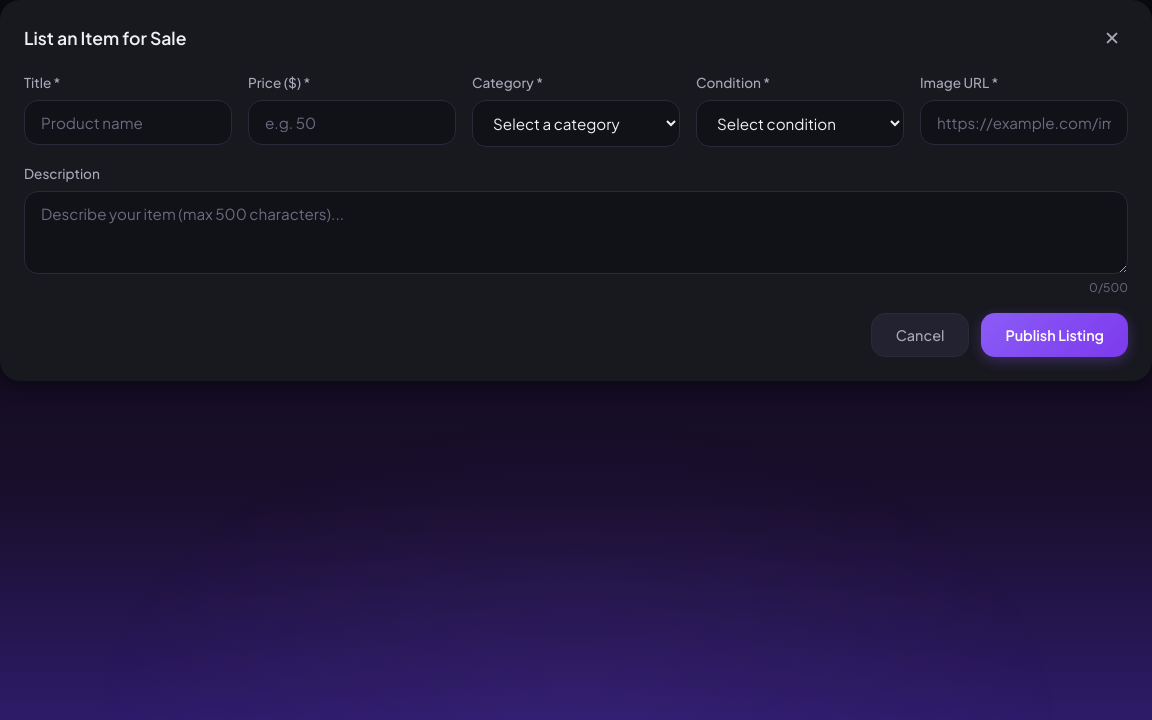
Test: CreateListingForm › shows "Price must be greater than zero" when price is 0
Type "Test Item" into the field labelled "Title *".
click(128, 122); type("Test Item")  # box [24, 100, 232, 145]
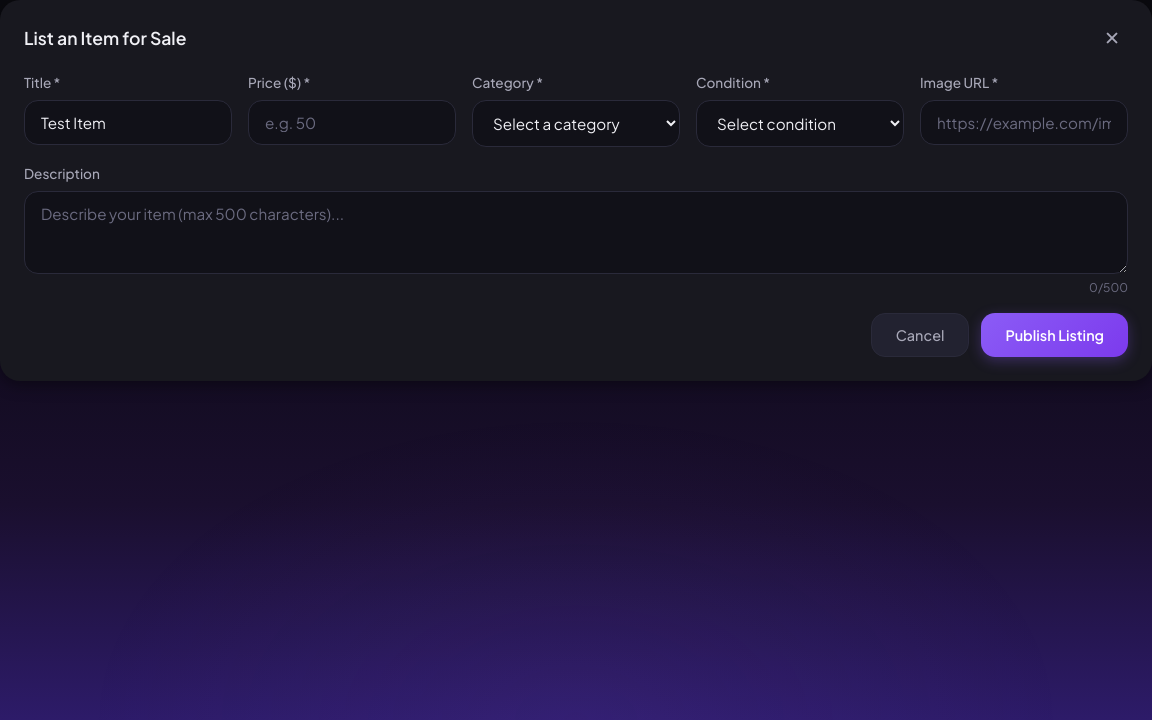
Type "0" into the number field labelled "Price ($) *".
click(352, 122); type("0")  # box [248, 100, 456, 145]
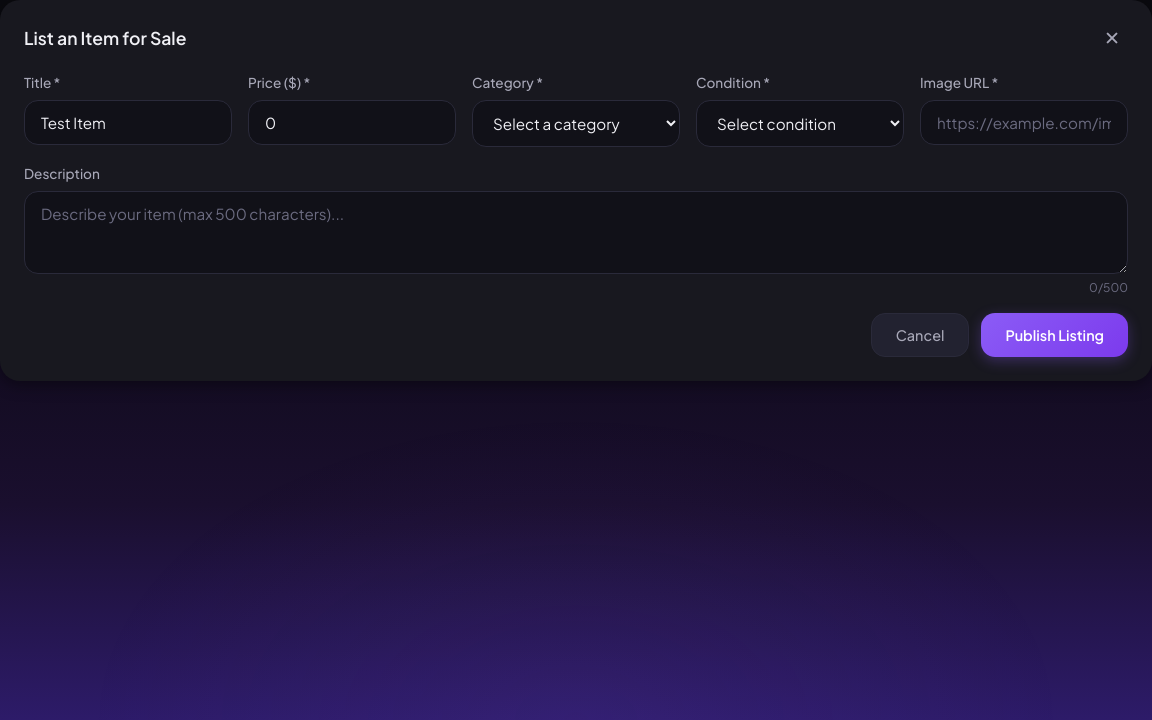
Select "Running" in the dropdown labelled "Category *" at (576,123), box [472, 100, 680, 147]
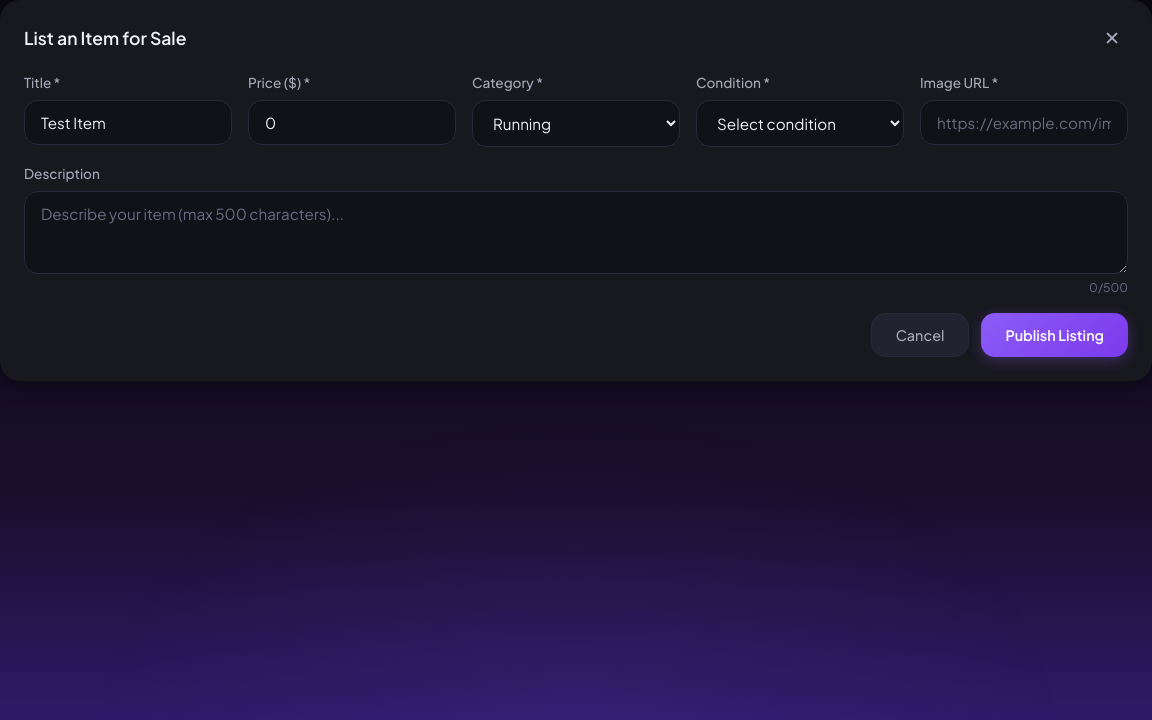
Select "Good" in the dropdown labelled "Condition *" at (800,123), box [696, 100, 904, 147]
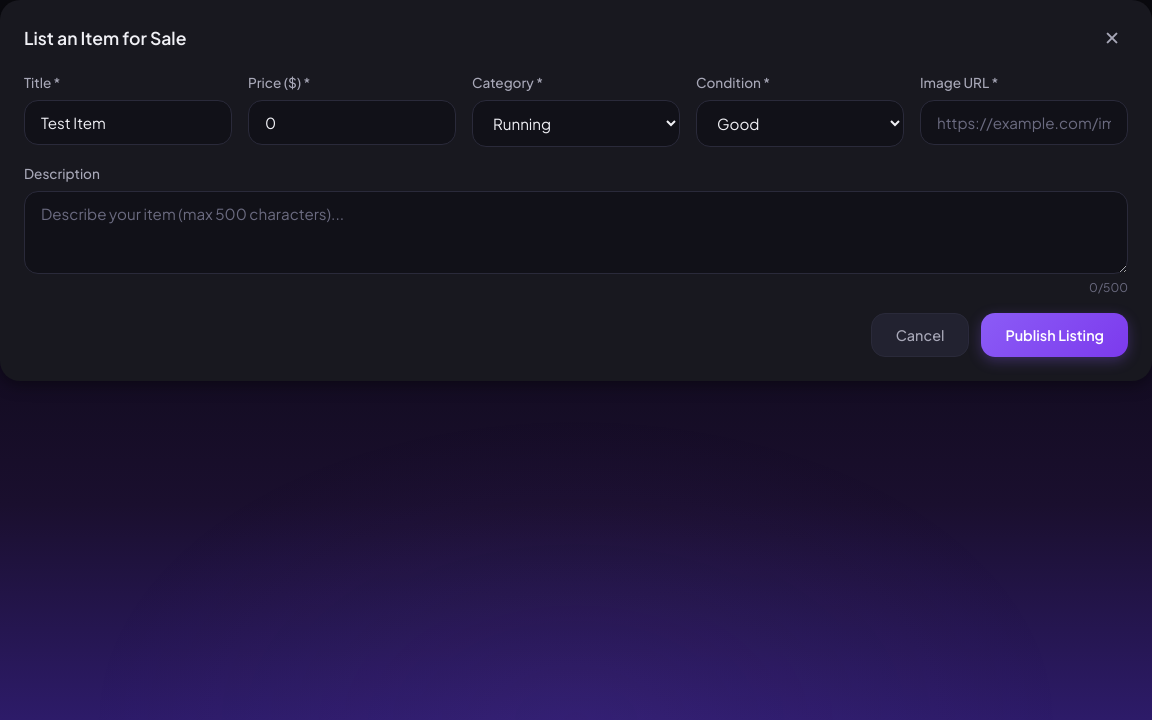
Type "https://img.com/a.jpg" into the field labelled "Image URL *".
click(1024, 122); type("https://img.com/a.jpg")  # box [920, 100, 1128, 145]
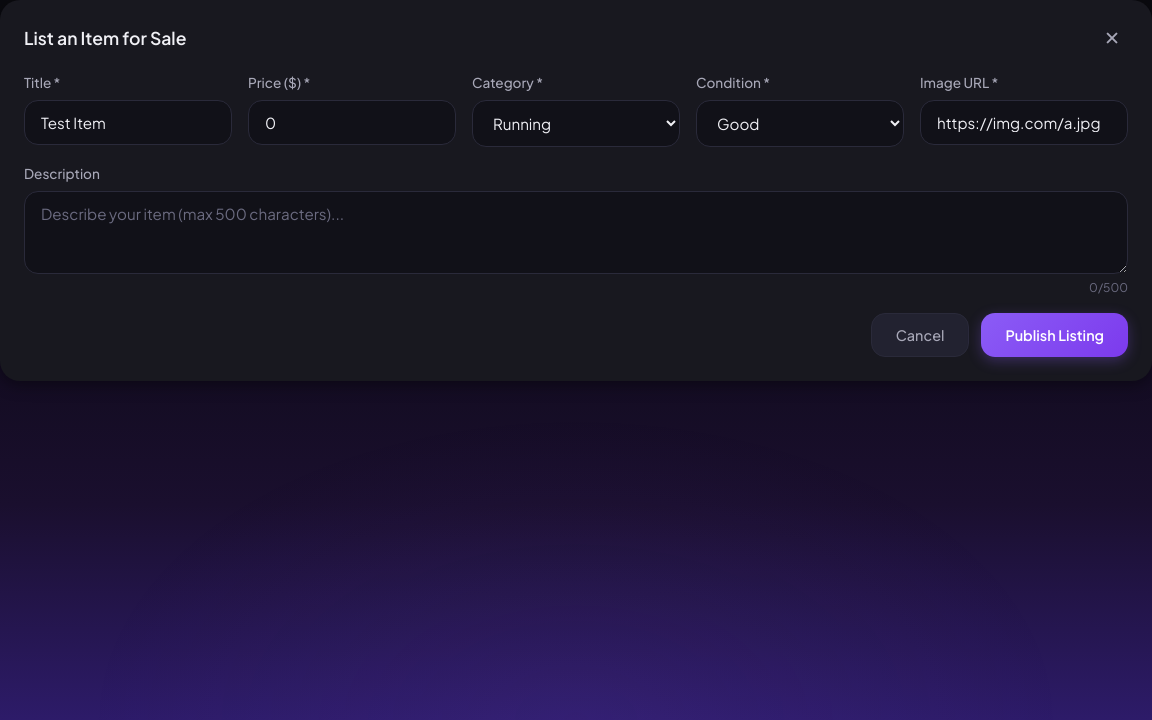
Click the button "Publish Listing".
click(1055, 335)  # box [981, 313, 1128, 357]
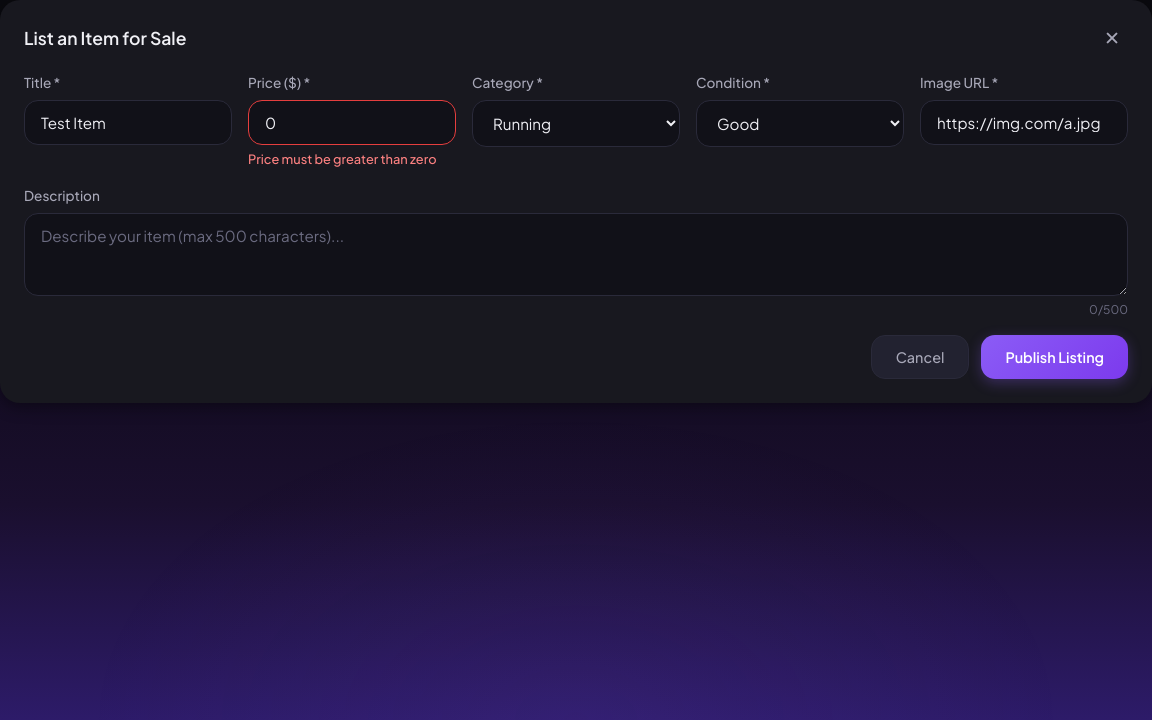
Expected: the text "Price must be greater than zero" is shown, [248, 149, 456, 169]
